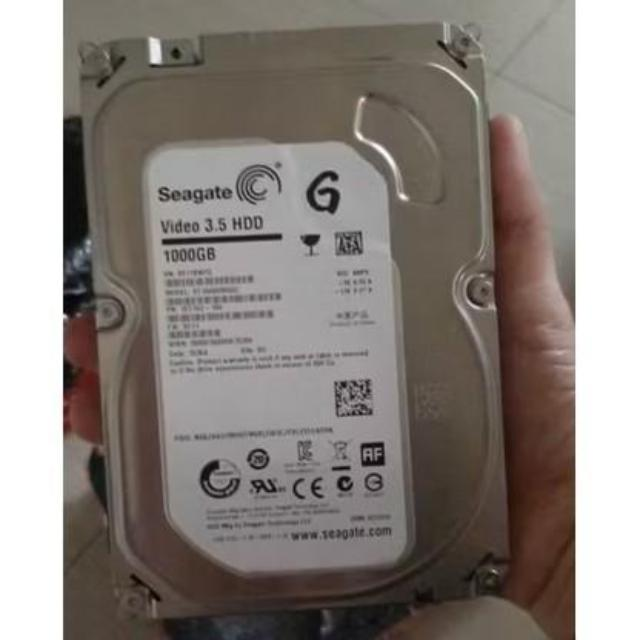DISK: (76, 9, 522, 616)
